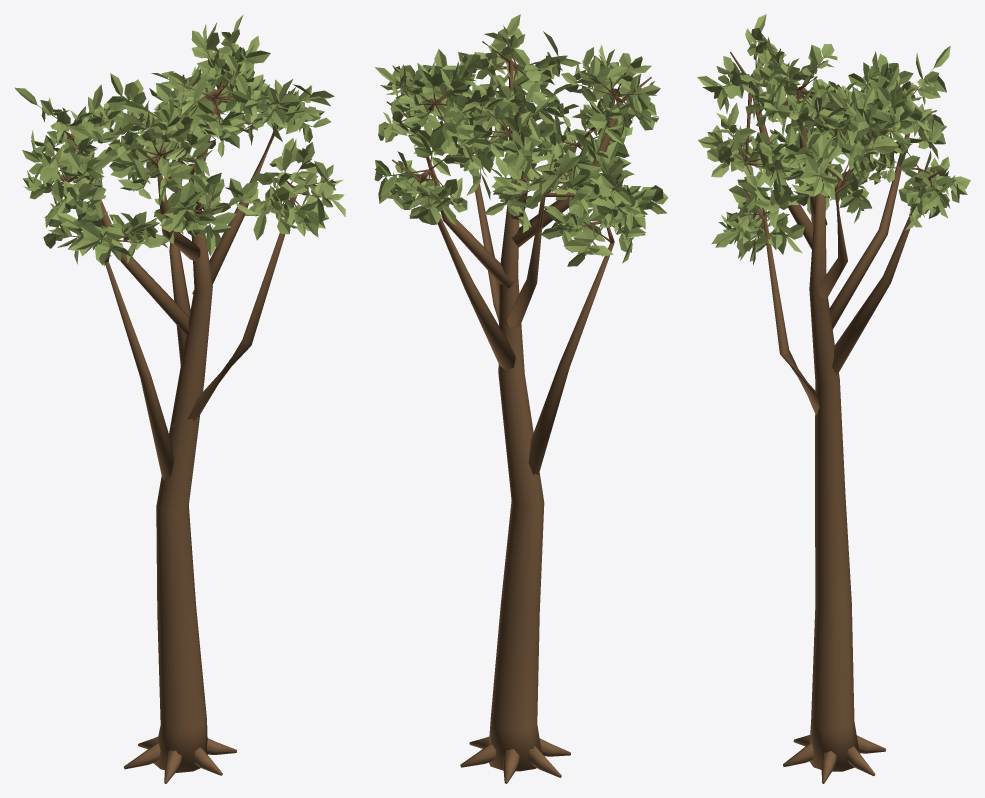
Rendered from courtyard_tree.glb.
3 views of the same model, side by side, from view 1: azimuth 30°, elevation 25°; view 2: azimuth 150°, elevation 25°; view 3: azimuth 270°, elevation 25° (orthographic).
Parts seen in each view (by area): view 1: Kit_leaf, Kit_wood; view 2: Kit_leaf, Kit_wood; view 3: Kit_leaf, Kit_wood.
Part boxes in pixels (x1,y1,x2,y2): Kit_leaf: (14,14,345,266); Kit_wood: (37,48,333,783); Kit_leaf: (374,14,668,266); Kit_wood: (381,40,651,783); Kit_leaf: (697,14,970,265); Kit_wood: (721,40,944,783).
Size of the model in its own units: 1.57 by 3.93 by 1.36.
